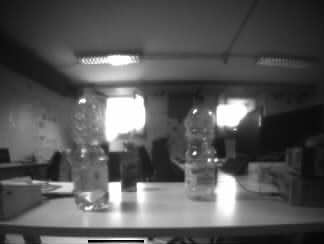Bottle: (74, 89, 110, 209), (185, 96, 217, 199), (122, 142, 138, 193)
